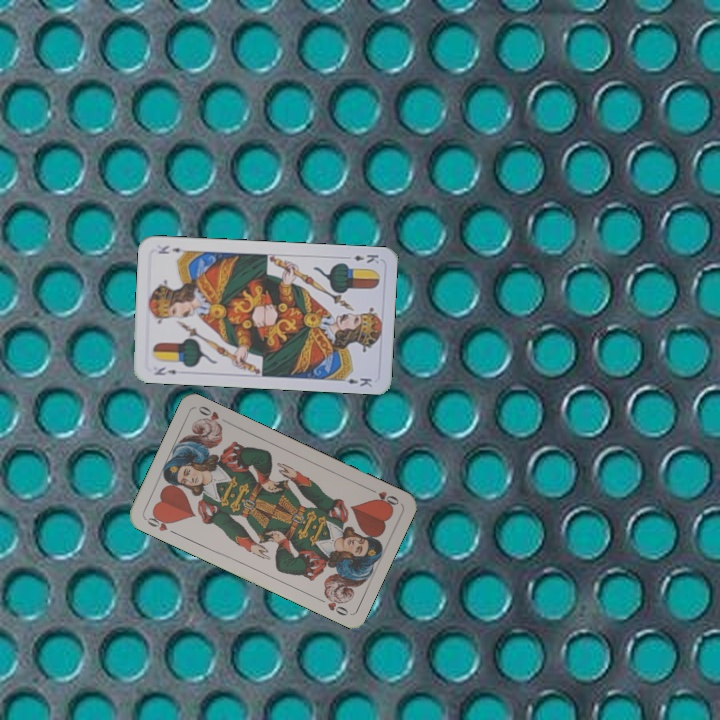EK: (349, 250, 381, 266), (150, 363, 179, 378)
HO: (141, 510, 180, 537), (364, 483, 402, 510)
